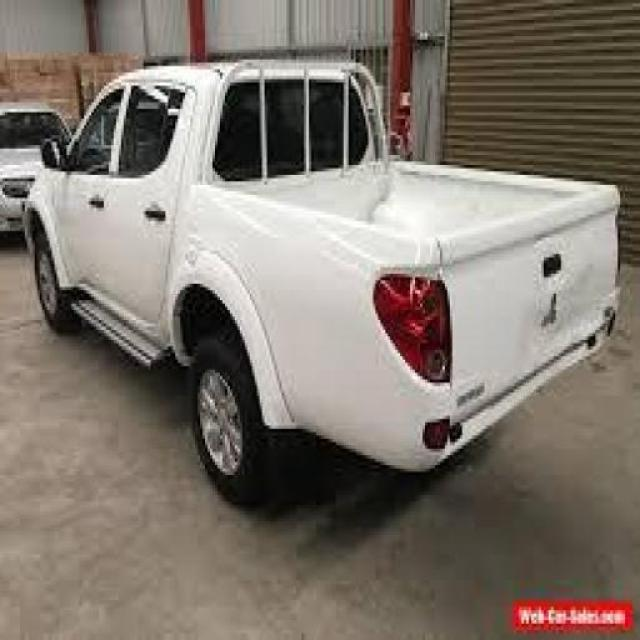dent: (527, 267, 594, 375)
